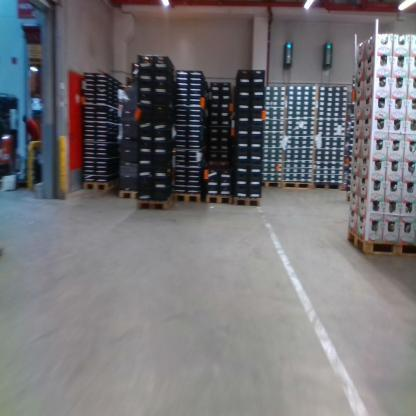pallets: (345, 228, 415, 261), (170, 192, 261, 207), (260, 179, 339, 190), (80, 178, 116, 193), (112, 187, 142, 203), (136, 200, 168, 210)
